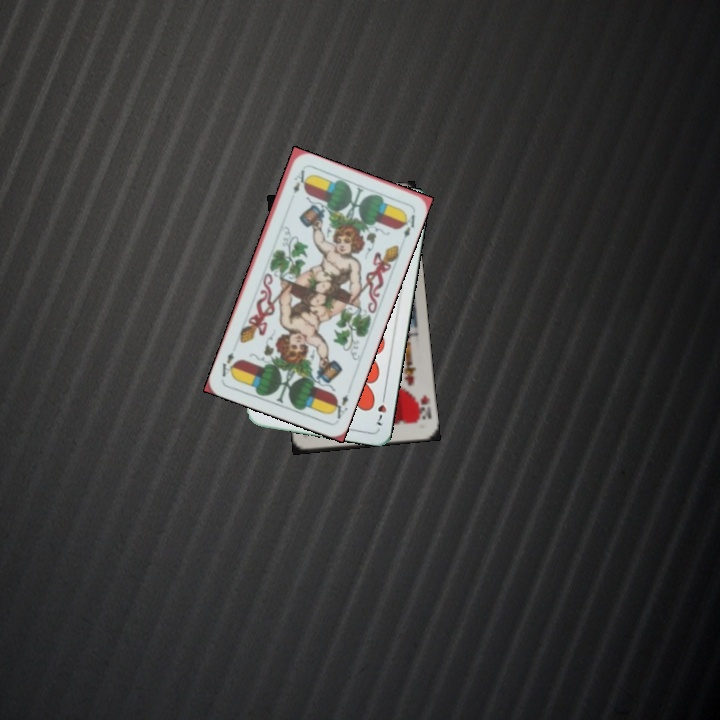EA: (327, 390, 351, 422), (289, 165, 307, 196)
H7: (373, 389, 389, 428)
HK: (412, 391, 434, 426)
